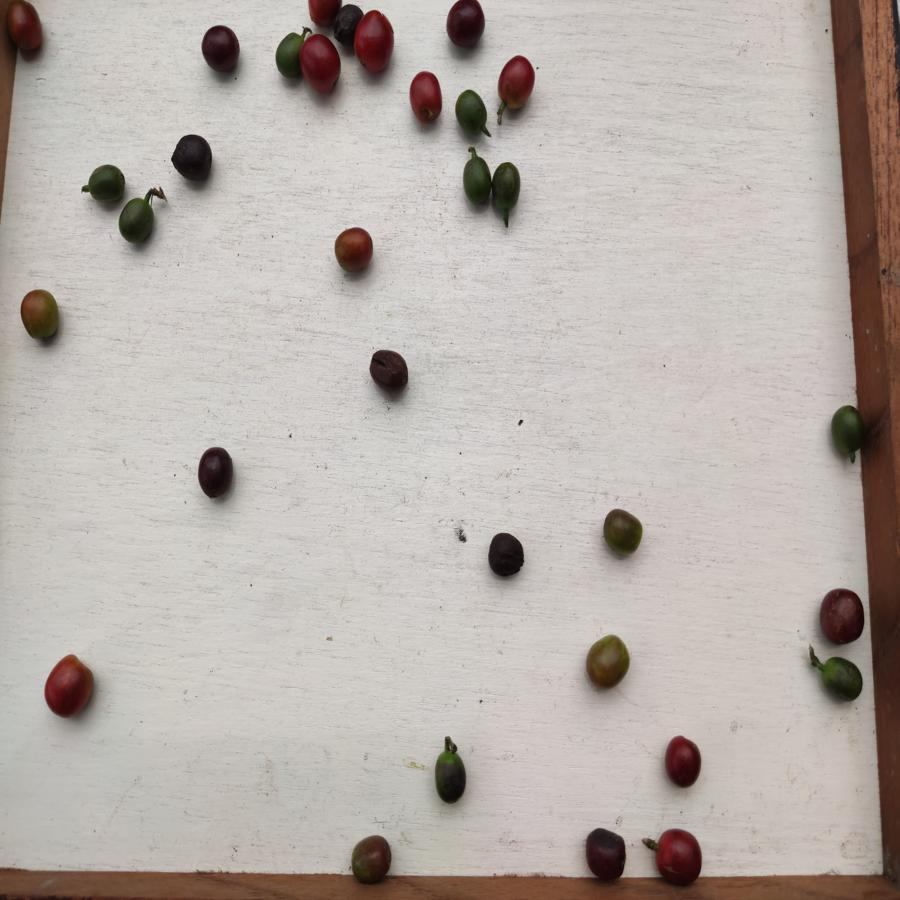Inmaduro: (814, 653, 866, 701), (829, 402, 865, 459), (118, 197, 157, 246), (434, 747, 467, 804), (455, 88, 491, 139), (490, 162, 523, 212), (89, 163, 125, 207), (463, 156, 492, 207), (276, 33, 300, 79)
Maduro: (42, 655, 95, 717), (357, 7, 396, 76), (302, 34, 341, 96), (497, 54, 536, 112), (663, 734, 702, 790), (408, 70, 443, 125)
Pinton: (585, 634, 630, 690), (599, 506, 645, 557), (20, 289, 61, 344), (350, 834, 393, 885), (4, 1, 45, 54), (331, 227, 375, 274)
Sobremaduro: (651, 827, 703, 887), (817, 588, 866, 647), (583, 825, 628, 882), (171, 134, 215, 185), (196, 445, 234, 501), (200, 25, 242, 74), (445, 1, 486, 50), (487, 531, 527, 577), (368, 349, 409, 392), (331, 4, 358, 46)
